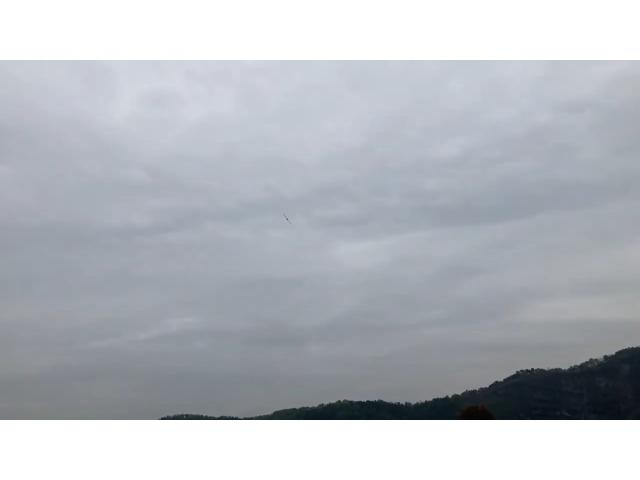Anti-Drone: (279, 204, 297, 228)
